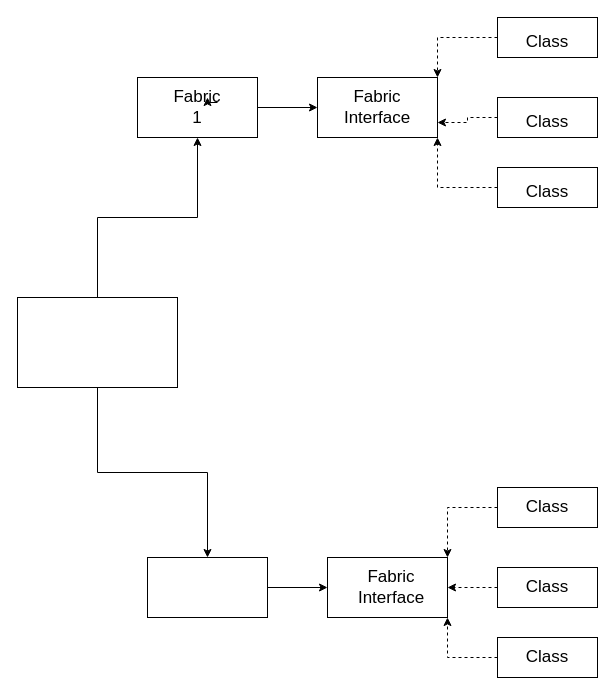
The diagram is 615 pixels wide and 695 high, and some of its shapes have lost their labels. Each missing label, with the box of its shape:
Abstract Fabric: (16, 296, 178, 388)
Fabric 2: (146, 556, 268, 618)
